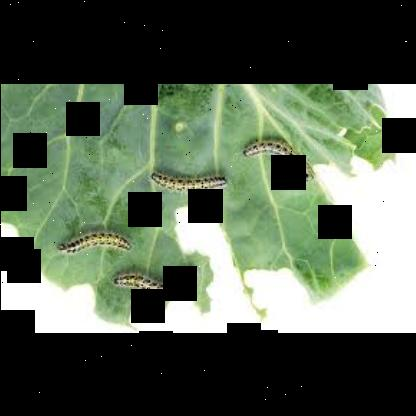agujero: (308, 155, 394, 268), (168, 198, 248, 312), (240, 262, 312, 320), (120, 289, 198, 327), (329, 127, 349, 137)
oruga: (238, 134, 316, 190), (112, 266, 200, 302), (148, 168, 228, 194), (56, 232, 134, 256)
